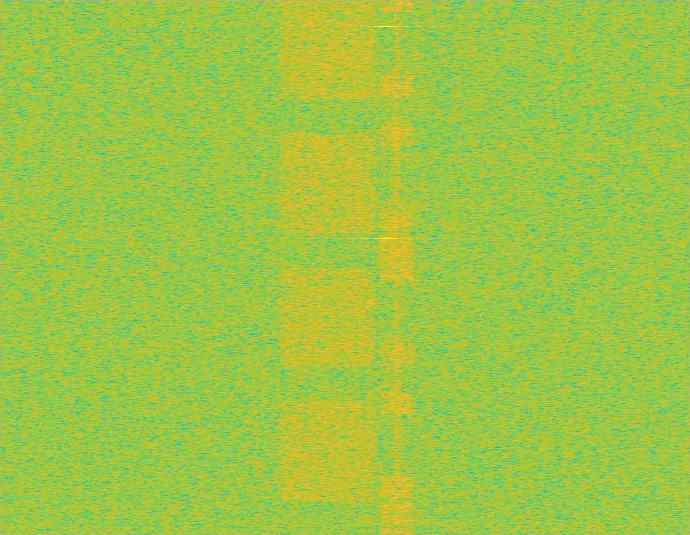5G: (276, 0, 380, 534)
DSSS: (393, 0, 401, 534)
LTE: (380, 0, 414, 534)
Radar: (379, 0, 393, 534)
